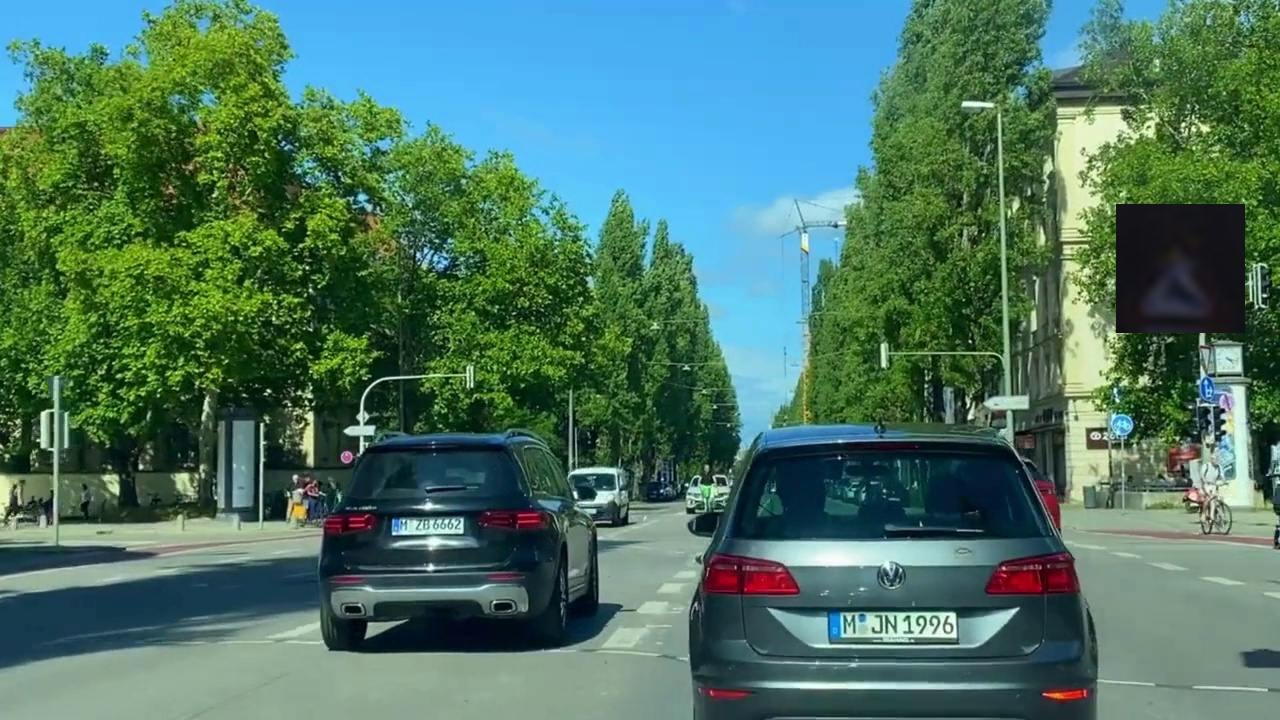Wild animals: (1116, 204, 1245, 333)
